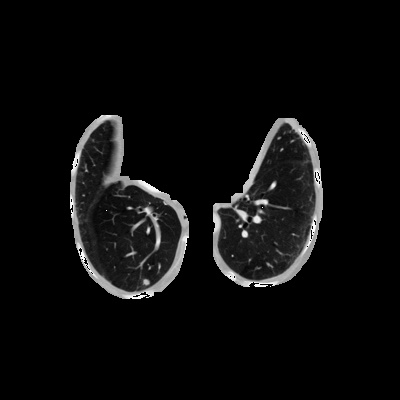PN: (142, 278, 150, 286)
